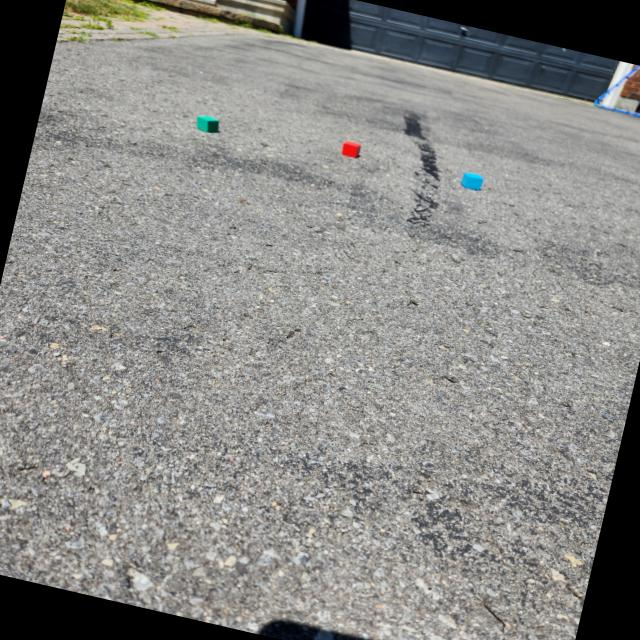bluecube: (459, 170, 484, 191)
green cube: (194, 112, 222, 134)
red cube: (341, 138, 362, 158)
